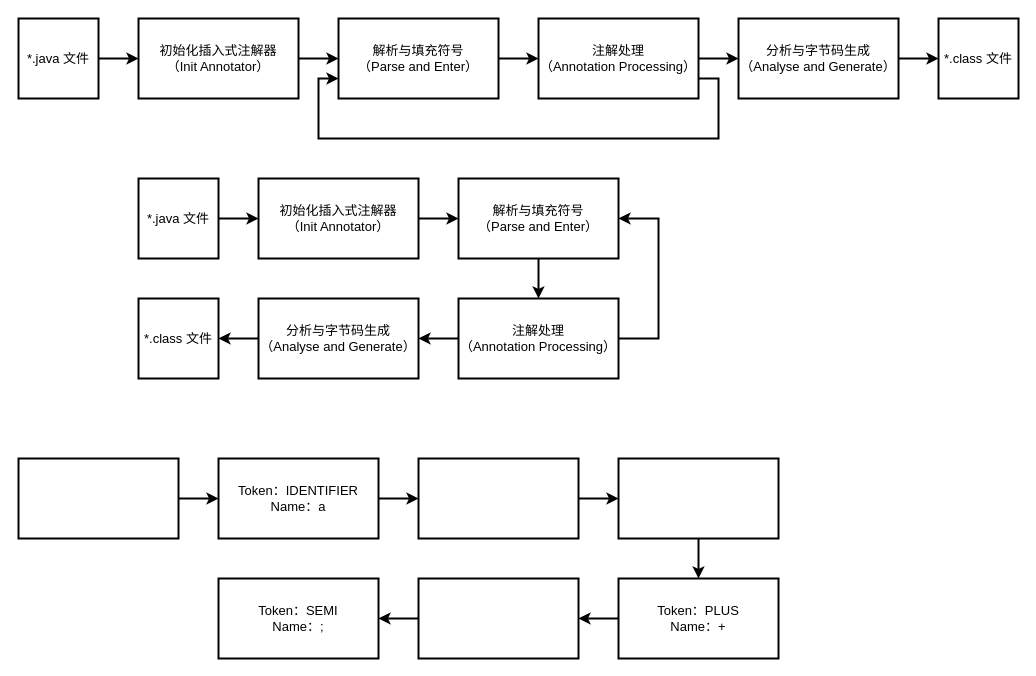
This 1036x676 diagram has some shape labels left out. Here are the shapes that lost their labels. From the top down, the box of each, then its label:
(17, 457, 179, 539): Token：INT Name：int
(417, 457, 579, 539): Token：EQ Name：=
(617, 457, 779, 539): Token：IDENTIFIER Name：b
(417, 577, 579, 659): Token：INTLITERAL Name：2
